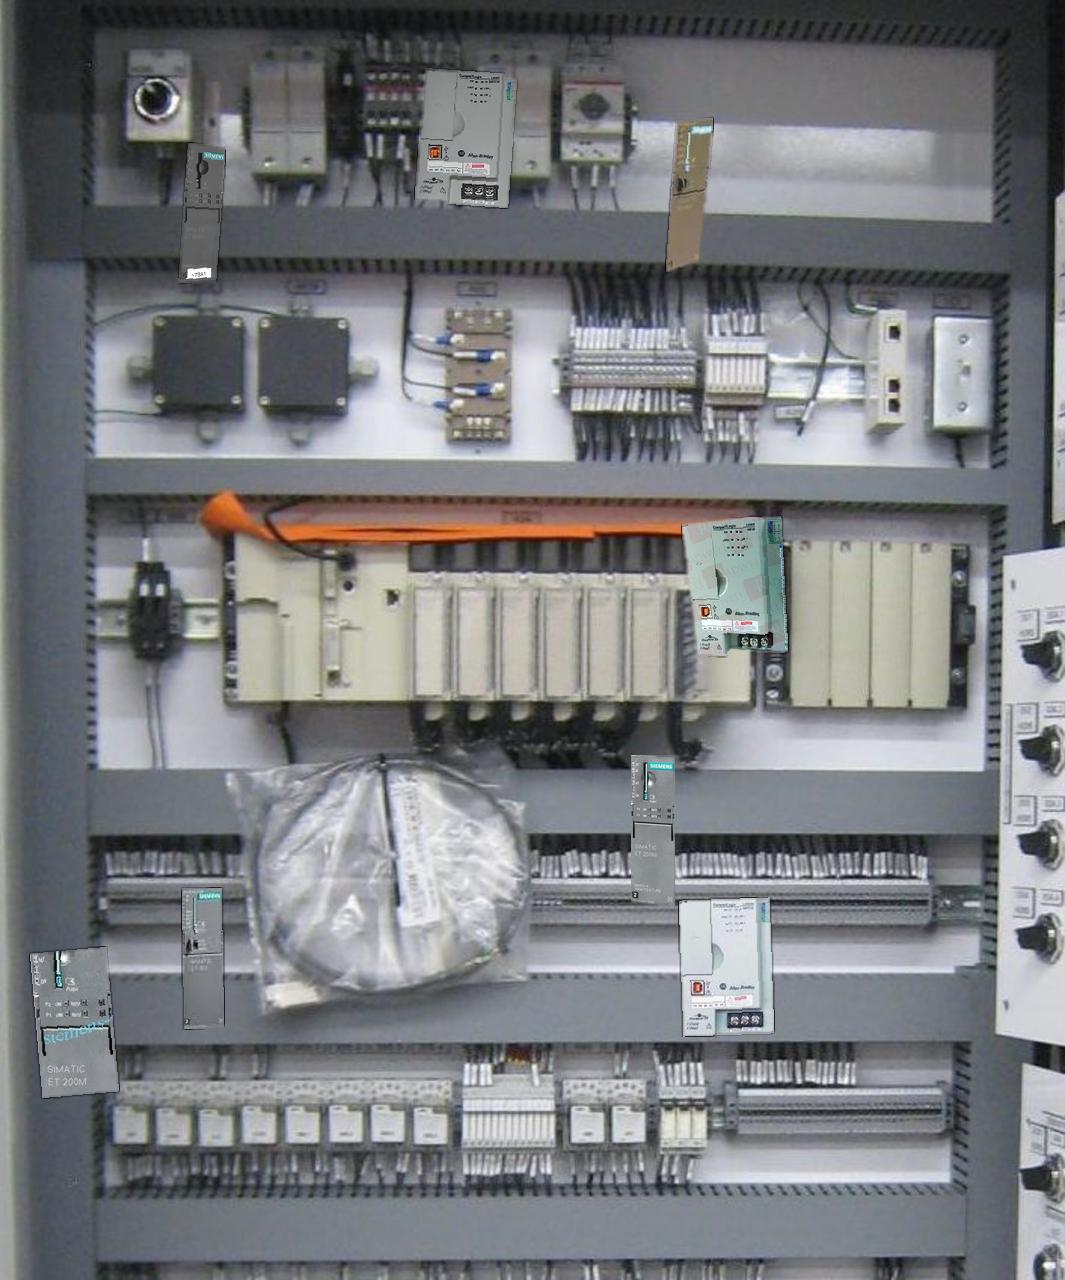AllenBradley: (682, 517, 787, 655), (415, 69, 515, 207), (679, 898, 773, 1035)
Siemens: (666, 118, 712, 271), (182, 888, 223, 1028)
